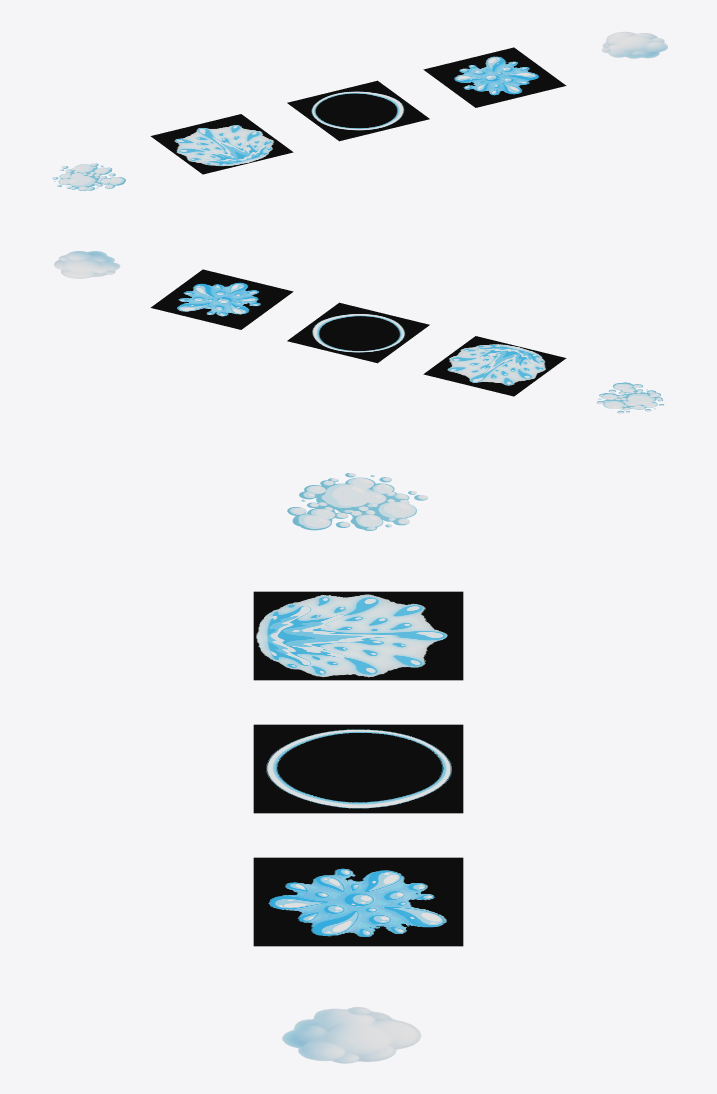
Rendered from WaterSprites.fbx.
3 renders of one model, top to bottom at view 1: azimuth 30°, elevation 25°; view 2: azimuth 150°, elevation 25°; view 3: azimuth 270°, elevation 25°, orthographic. The views are drawn at different scales.
Visible parts, largest first — view 1: Sprite_Droplets, Sprite_Ripple, Sprite_Splash, Sprite_Mist, Sprite_Foam; view 2: Sprite_Splash, Sprite_Droplets, Sprite_Ripple, Sprite_Mist, Sprite_Foam; view 3: Sprite_Droplets, Sprite_Ripple, Sprite_Splash, Sprite_Mist, Sprite_Foam.
Part boxes in pixels (bbox=[...]): Sprite_Droplets: bbox=[423, 47, 566, 107]; Sprite_Ripple: bbox=[287, 80, 429, 141]; Sprite_Splash: bbox=[150, 114, 293, 174]; Sprite_Mist: bbox=[601, 31, 667, 58]; Sprite_Foam: bbox=[52, 163, 125, 190]; Sprite_Splash: bbox=[423, 336, 566, 396]; Sprite_Droplets: bbox=[150, 269, 293, 329]; Sprite_Ripple: bbox=[287, 302, 429, 363]; Sprite_Mist: bbox=[54, 251, 120, 278]; Sprite_Foam: bbox=[597, 382, 663, 413]; Sprite_Droplets: bbox=[253, 857, 463, 946]; Sprite_Ripple: bbox=[253, 724, 463, 813]; Sprite_Splash: bbox=[253, 591, 463, 680]; Sprite_Mist: bbox=[282, 1007, 421, 1063]; Sprite_Foam: bbox=[287, 473, 427, 530].
Size of the model in its own units: 70 by 1.63e-06 by 10.
Materials: 5 (5 with a texture image).
